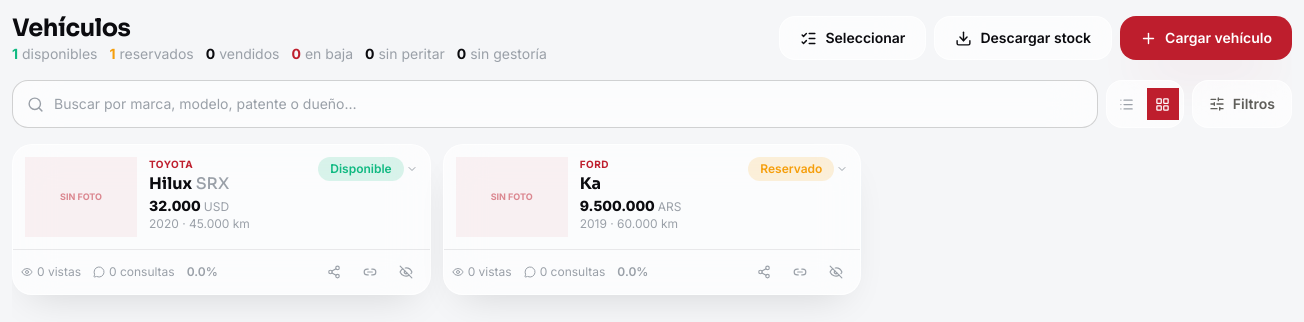
SeleccionVehiculos en VehiculosListPage › al clicar Seleccionar las cards se vuelven seleccionables
This screenshot has width=1304, height=322.
Click the button "Seleccionar" at (853, 38), box [779,16,926,60]
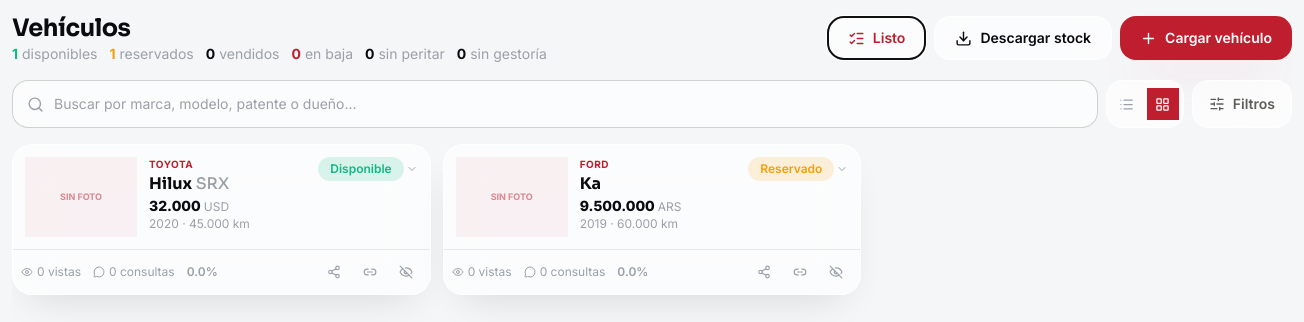
Expected: the button "Listo" is shown, [827,16,926,60]
